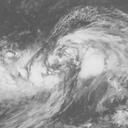cyclone: (36, 31, 95, 86)
